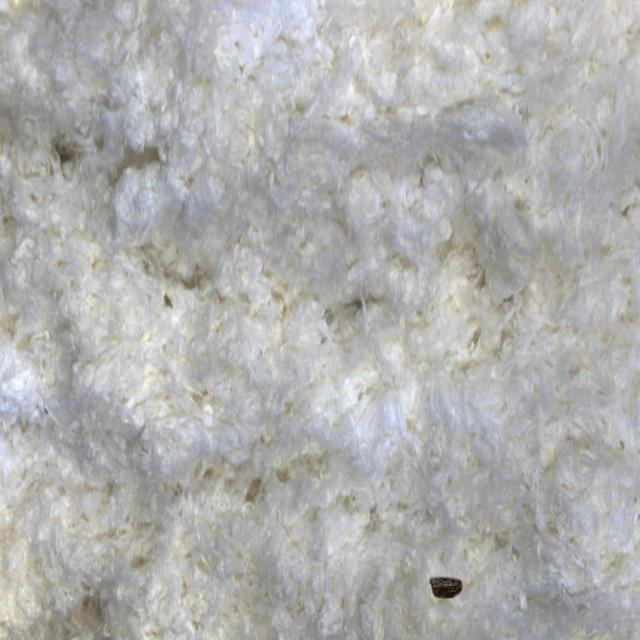dust: (405, 523, 492, 640)
